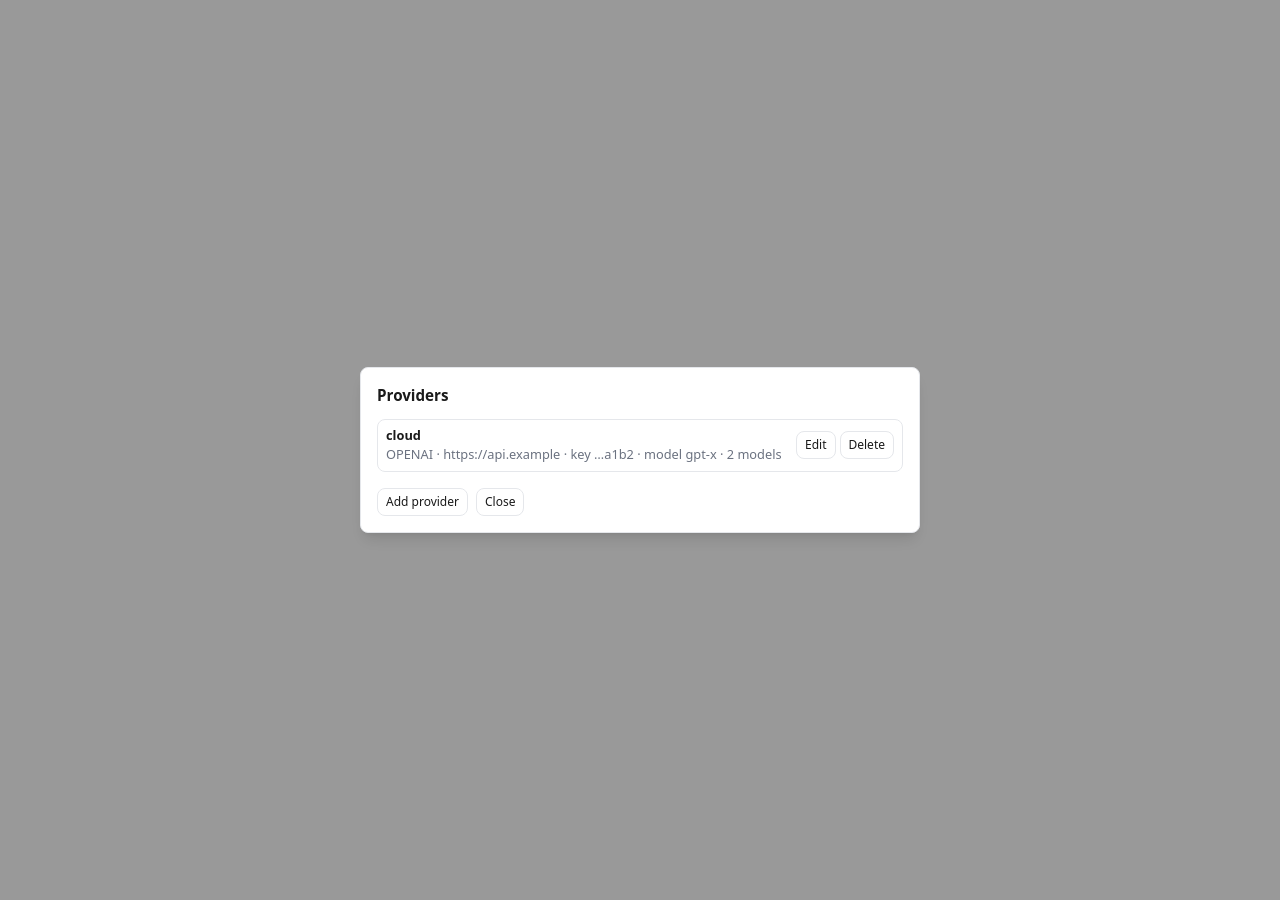
it: ProvidersPanel › deleting a provider asks for confirmation and reloads the list
This screenshot has width=1280, height=900.
Click the button "Delete" at coordinates (867, 445), box [840,431,894,459]
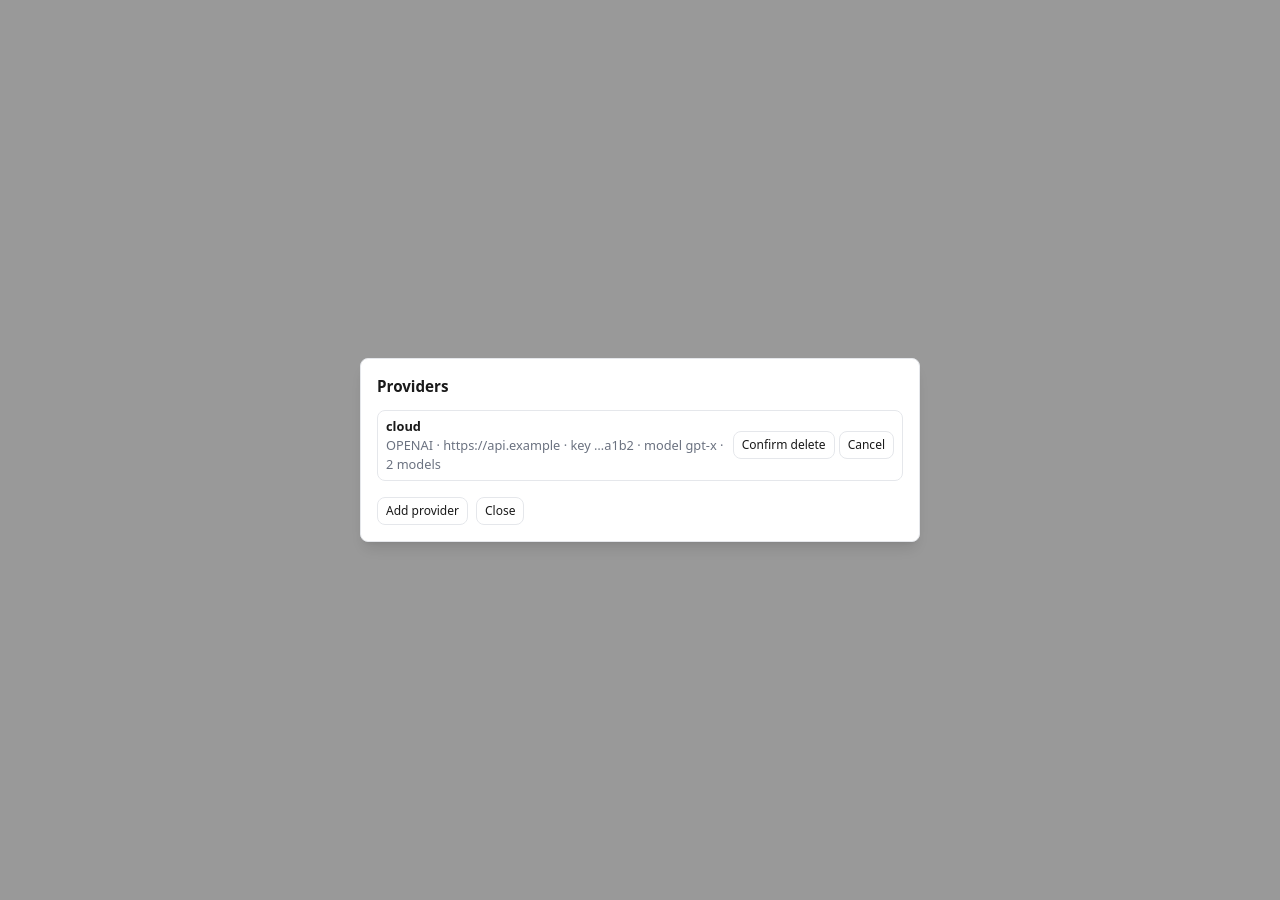
Click the button "Confirm delete" at coordinates (784, 445), box [733,431,835,459]
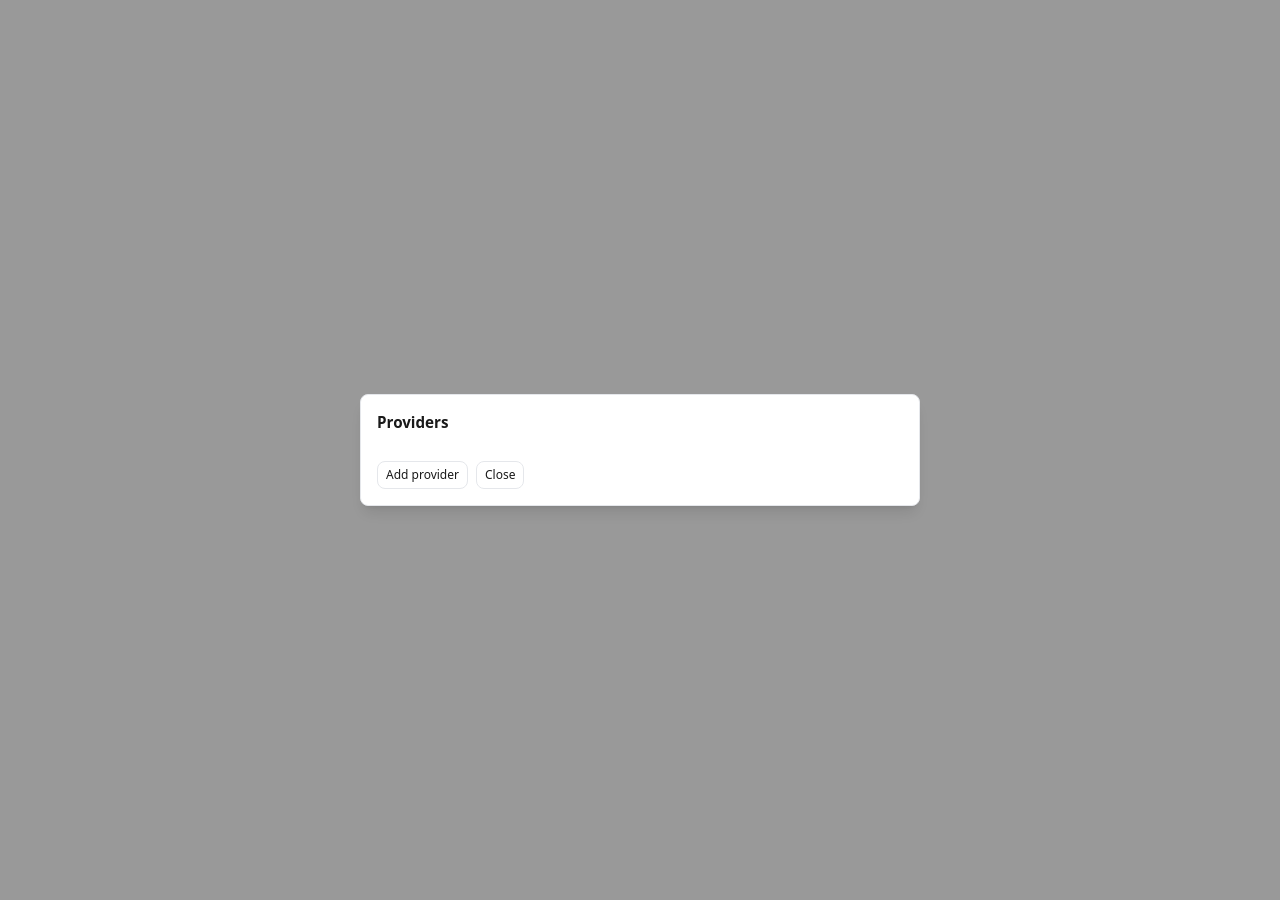
Check: the list item "cloud OPENAI · https://api.example · key …a1b2 · model gpt-x · 2 models Confirm" is gone
